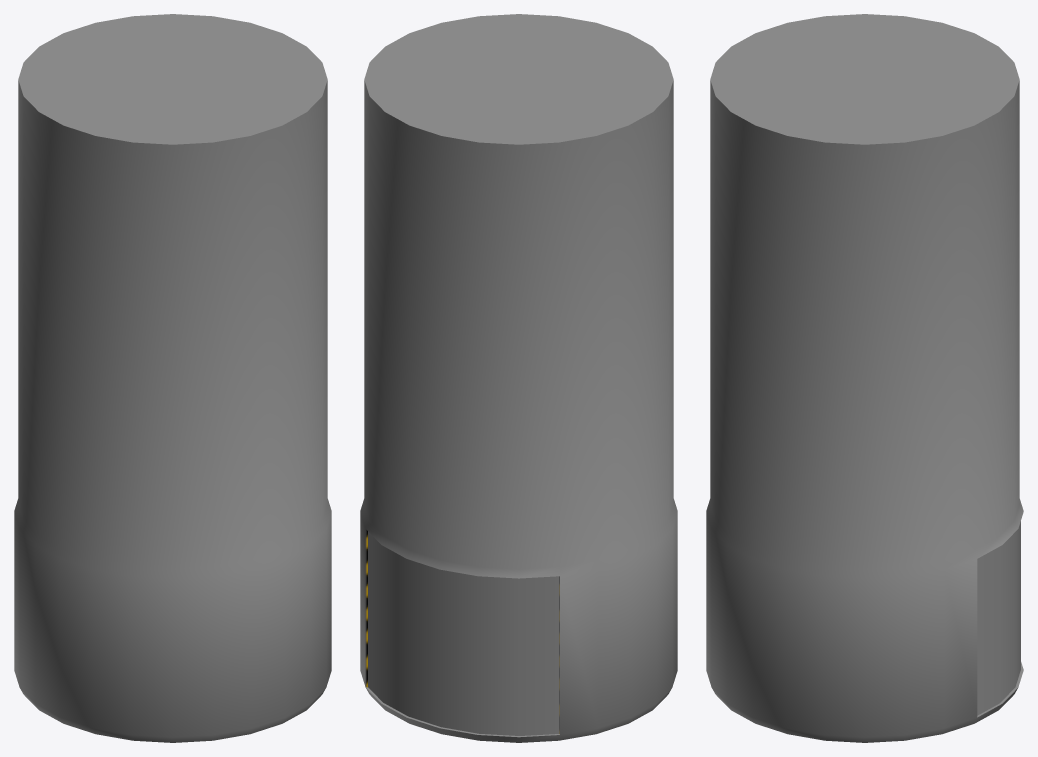
3 views of the same model, side by side, from view 1: azimuth 30°, elevation 25°; view 2: azimuth 150°, elevation 25°; view 3: azimuth 270°, elevation 25° (orthographic).
Parts seen in each view (by area): view 1: MainBody; view 2: MainBody, ScopeCover; view 3: MainBody, ScopeCover.
Boxes of the visible parts, <box> form: MainBody: <box>14,14,331,742</box>; MainBody: <box>360,14,677,742</box>; ScopeCover: <box>368,531,559,735</box>; MainBody: <box>706,14,1023,742</box>; ScopeCover: <box>977,521,1020,715</box>.
Size of what is drawn, in the model's own units: 1.92 by 4 by 1.92.
